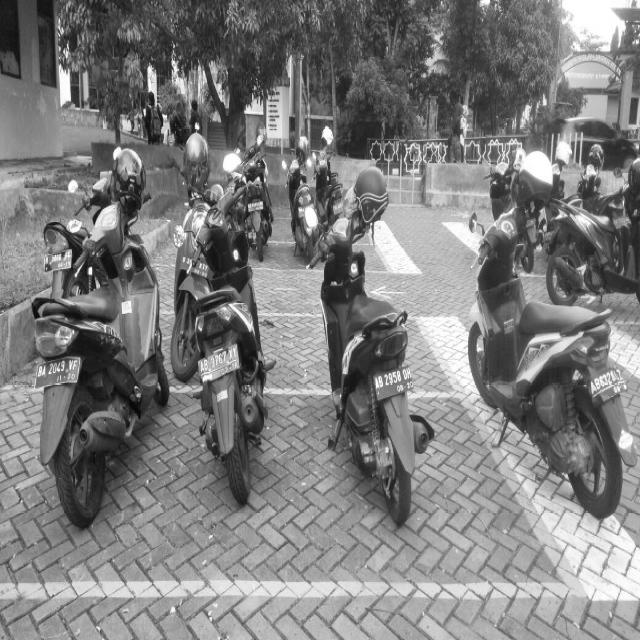license-plat: (25, 351, 101, 394)
